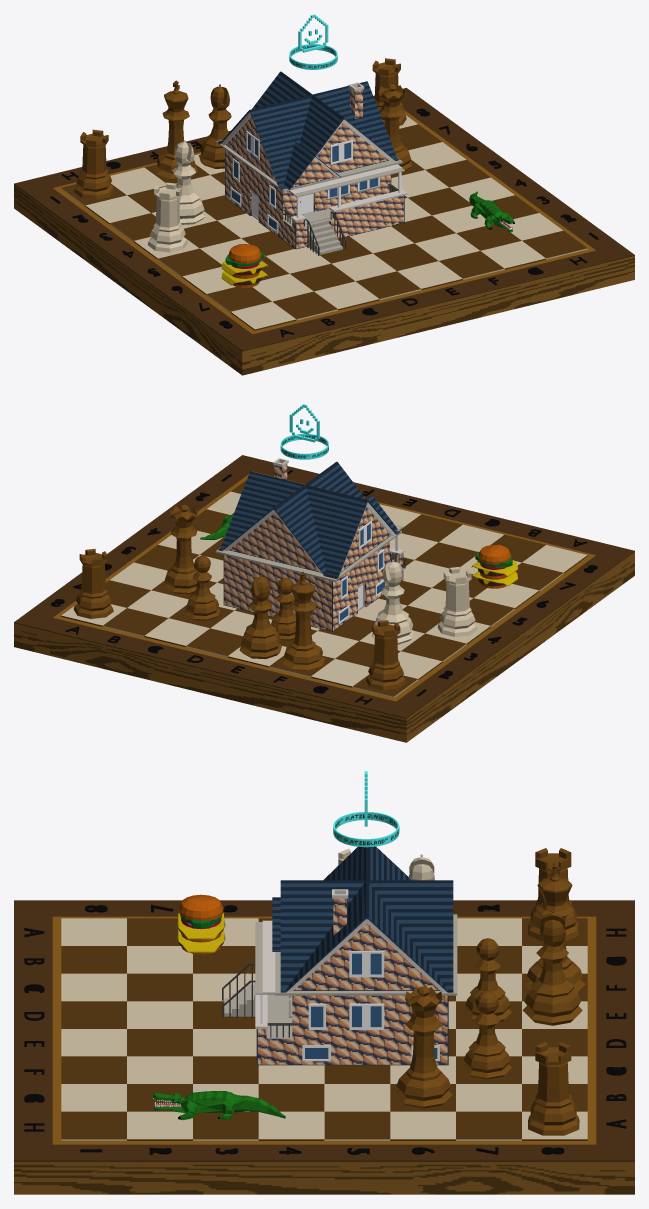
3 views of the same model, one above another, from view 1: azimuth 30°, elevation 25°; view 2: azimuth 150°, elevation 25°; view 3: azimuth 270°, elevation 25° (orthographic). The views are drawn at different scales.
Parts seen in each view (by area): view 1: Cube.002, Cube.430, OBJRANDOM_HAMBURGER, TYPE_PREMIUM, ANIMAL_COCODRILO; view 2: Cube.002, Cube.430, OBJRANDOM_HAMBURGER, TYPE_PREMIUM; view 3: Cube.002, Cube.430, OBJRANDOM_HAMBURGER, ANIMAL_COCODRILO, TYPE_PREMIUM.
Part boxes in pixels (x1,y1,x2,y2): Cube.002: [14, 58, 634, 375]; Cube.430: [216, 71, 407, 255]; OBJRANDOM_HAMBURGER: [221, 244, 268, 287]; TYPE_PREMIUM: [289, 14, 337, 69]; ANIMAL_COCODRILO: [469, 191, 514, 232]; Cube.002: [14, 455, 634, 742]; Cube.430: [215, 458, 405, 631]; OBJRANDOM_HAMBURGER: [471, 544, 517, 588]; TYPE_PREMIUM: [280, 404, 328, 459]; Cube.002: [14, 848, 634, 1194]; Cube.430: [222, 846, 457, 1065]; OBJRANDOM_HAMBURGER: [176, 894, 225, 954]; ANIMAL_COCODRILO: [152, 1091, 285, 1119]; TYPE_PREMIUM: [333, 771, 399, 847].
Size of the model in its own units: 3981 by 2201 by 4012.
Materials: 33 (5 with a texture image).
